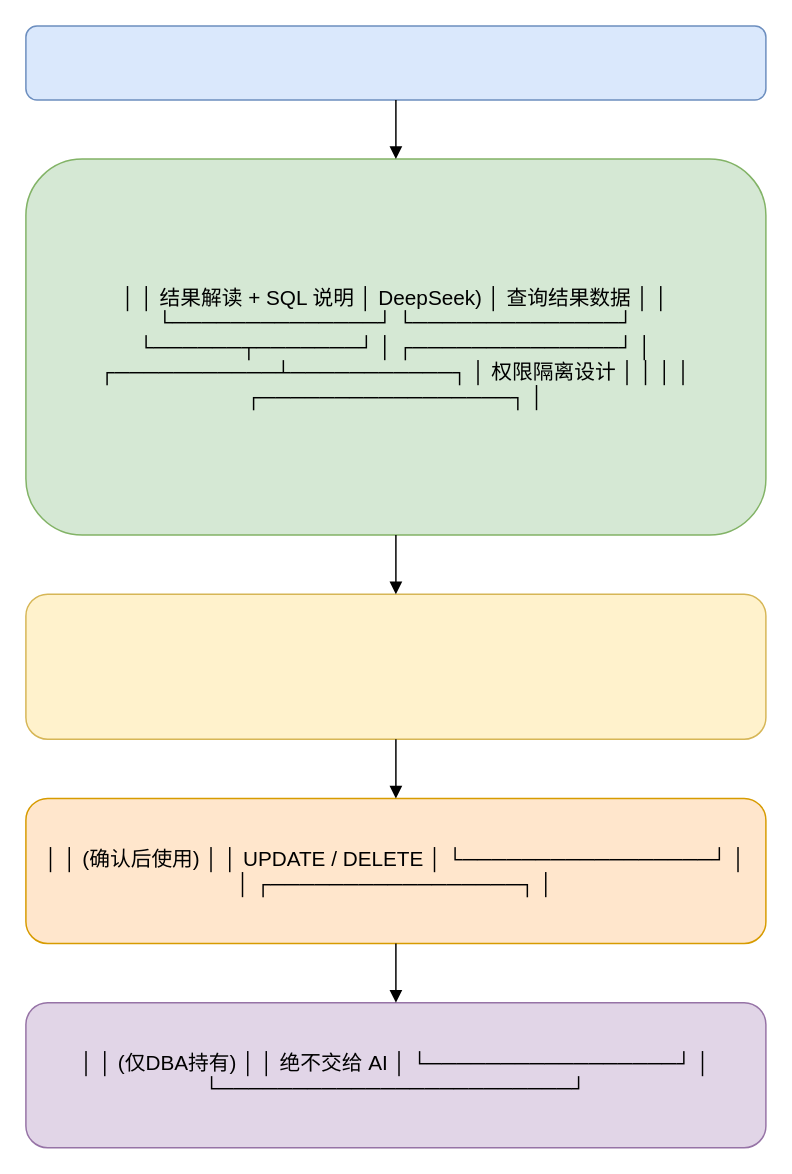
The diagram is 792 pixels wide and 1174 high, and some of its shapes have lost their labels. The shapes that lost their labels are listed below. From the top down, each one's box as (x1, y1, x2, y2) in pixels, then its label:
(24, 24, 766, 100): ┌──────────────┐ 自然语言 Prompt ┌──────────────┐ 生成的 SQL ┌──────────────┐
(24, 593, 766, 739): │ │ (日常查询用) │ │ 最安全，默认使用 │ └─────────────────┘ │ │ ┌─────────────────┐ │
